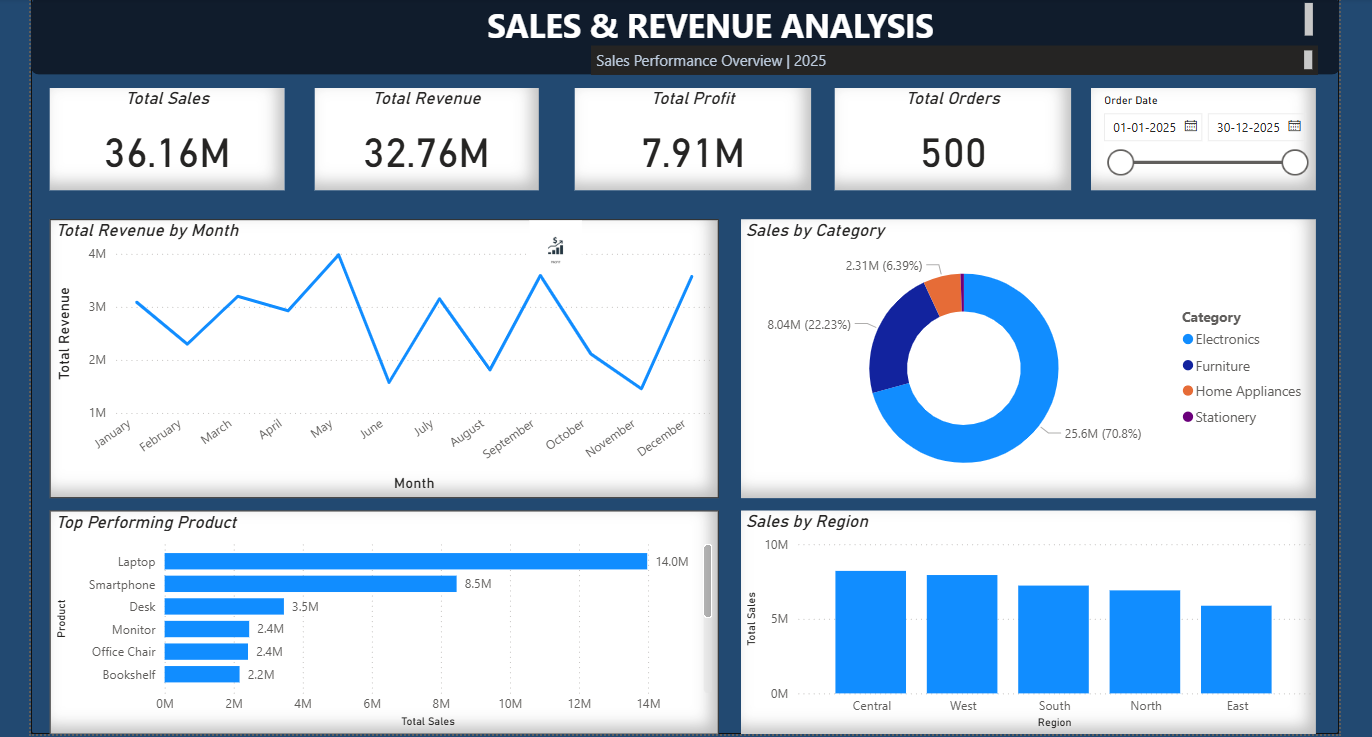

What the dashboard file says about the page in this screenshot:
{"tool":"powerbi","page":{"name":"Sales & Revenue Analysis","canvas":[1280,720],"ordinal":0},"visuals":[{"type":"card","title":"Total Sales","fields":{"Values":["Sales Data.Total Sales"]},"box":[52.1,101.5,230.5,100.2],"z":0},{"type":"card","title":"Total Profit","fields":{"Values":["Sales Data.Total Profit"]},"box":[620,101.5,231.1,100.3],"z":1000},{"type":"card","title":"Total Revenue","fields":{"Values":["Sales Data.Total Revenue"]},"box":[345.8,101.5,219.6,100.2],"z":2000},{"type":"card","title":"Total Orders","fields":{"Values":["Sales Data.Total Orders"]},"box":[890.6,101.5,230.5,100.2],"z":3000},{"type":"lineChart","fields":{"Y":["Sales Data.Total Revenue"],"Category":["Sales Data.Order Date.Variation.Date Hierarchy.Month"]},"box":[17.8,274.4,495.4,227.8],"z":4000},{"type":"clusteredBarChart","title":"Top Performing Product","fields":{"Category":["Sales Data.Product"],"Y":["Sales Data.Total Sales"]},"box":[18,512,495,208],"z":5000},{"type":"donutChart","title":"Sales by Category","fields":{"Category":["Sales Data.Category"],"Y":["Sales Data.Total Sales"]},"box":[590.1,274.4,393.8,227.8],"z":6000},{"type":"clusteredColumnChart","title":"Sales by Region","fields":{"Category":["Sales Data.Region"],"Y":["Sales Data.Total Sales"]},"box":[590.1,511.8,393.8,208.6],"z":7000},{"type":"slicer","fields":{"Values":["Sales Data.Order Date"]},"box":[1038.8,222.3,219.6,102.9],"z":8000},{"type":"shape","box":[0,0,1280.3,75],"z":9000},{"type":"textbox","box":[86.4,0,1171.9,46.7],"z":10000},{"type":"textbox","box":[547.5,46.7,710.8,28.8],"z":11000},{"type":"image","box":[475.7,212.8,75.8,61.1],"z":12000}]}

Visuals, with their boxes on the page's 1280x720 design canvas (x1, y1, x2, y2). These are canvas units, not pixel positions in the 1372x737 screenshot, which may show the page scaled, cropped or inside an application window:
"Total Sales" card: {"x1": 52, "y1": 102, "x2": 283, "y2": 202}
"Total Profit" card: {"x1": 620, "y1": 102, "x2": 851, "y2": 202}
"Total Revenue" card: {"x1": 346, "y1": 102, "x2": 565, "y2": 202}
"Total Orders" card: {"x1": 891, "y1": 102, "x2": 1121, "y2": 202}
lineChart - Sales Data.Total Revenue x Sales Data.Order Date.Variation.Date Hierarchy.Month: {"x1": 18, "y1": 274, "x2": 513, "y2": 502}
"Top Performing Product" clusteredBarChart: {"x1": 18, "y1": 512, "x2": 513, "y2": 720}
"Sales by Category" donutChart: {"x1": 590, "y1": 274, "x2": 984, "y2": 502}
"Sales by Region" clusteredColumnChart: {"x1": 590, "y1": 512, "x2": 984, "y2": 720}
slicer - Sales Data.Order Date: {"x1": 1039, "y1": 222, "x2": 1258, "y2": 325}
shape: {"x1": 0, "y1": 0, "x2": 1280, "y2": 75}
textbox: {"x1": 86, "y1": 0, "x2": 1258, "y2": 47}
textbox: {"x1": 548, "y1": 47, "x2": 1258, "y2": 76}
image: {"x1": 476, "y1": 213, "x2": 552, "y2": 274}
